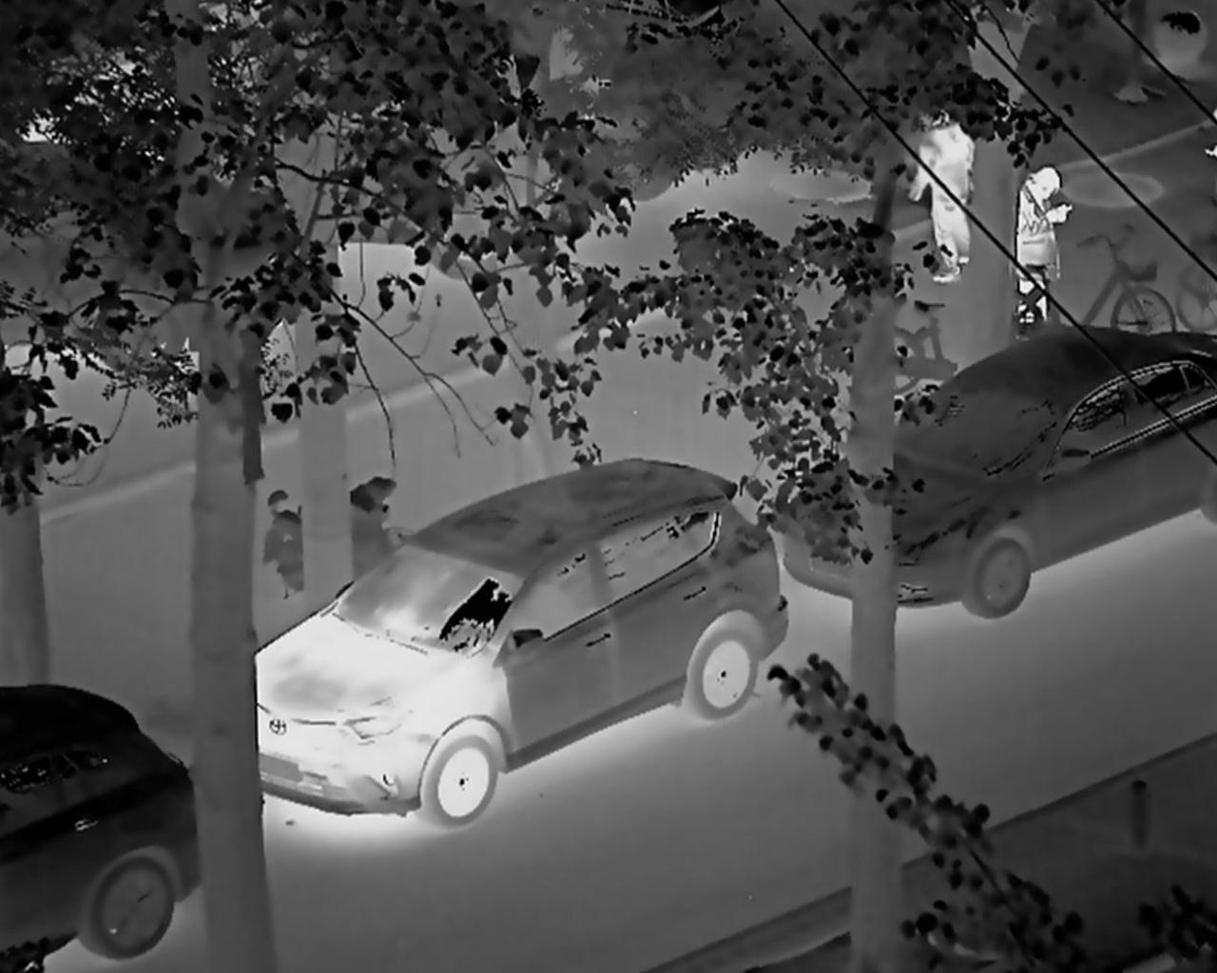person: (893, 60, 993, 311), (1014, 157, 1072, 336)
